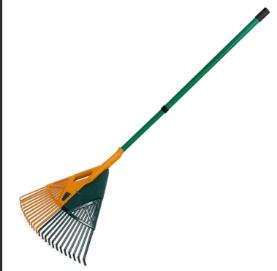RATEAU: (3, 0, 277, 271)
